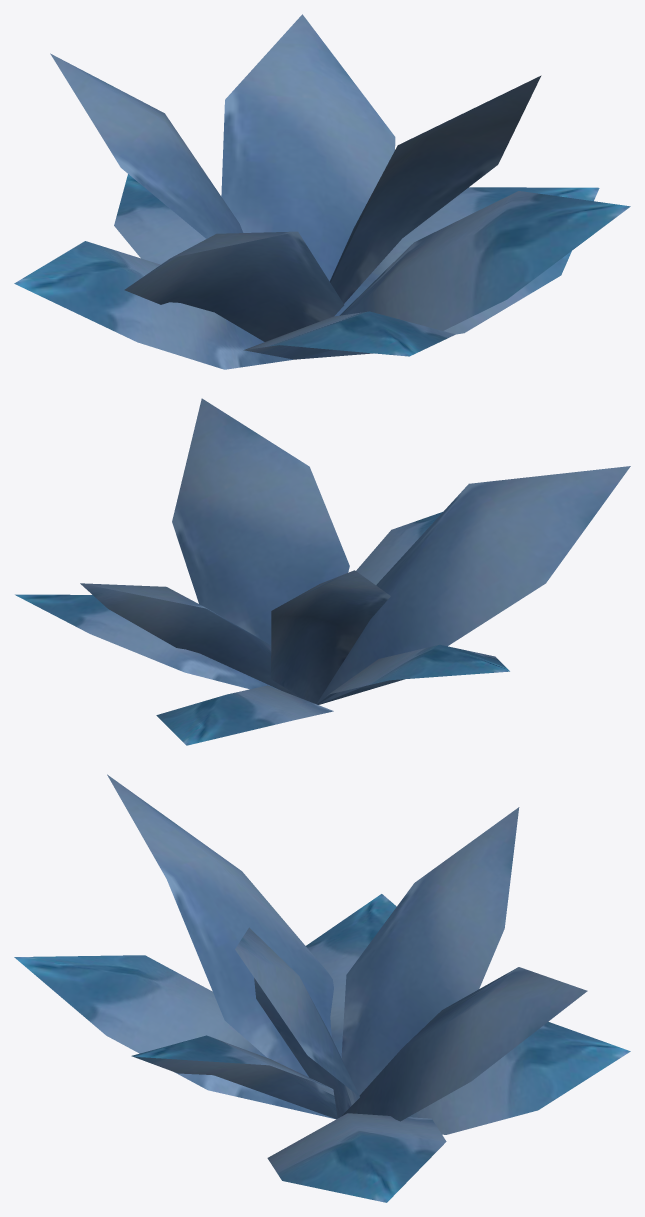
File: Beidaying_zhiwu07.FBX
The picture shows the model from 3 angles, top to bottom: view 1: azimuth 30°, elevation 25°; view 2: azimuth 150°, elevation 25°; view 3: azimuth 270°, elevation 25°; orthographic projection. The views are drawn at different scales.
Visible parts, largest first — view 1: Beidaying_zhiwu07; view 2: Beidaying_zhiwu07; view 3: Beidaying_zhiwu07.
Boxes of the visible parts, left/top/right/bottom form: Beidaying_zhiwu07: left=14, top=14, right=630, bottom=369; Beidaying_zhiwu07: left=15, top=398, right=630, bottom=745; Beidaying_zhiwu07: left=14, top=774, right=630, bottom=1202.
Size of the model in its own units: 43.07 by 42.6 by 19.5.
